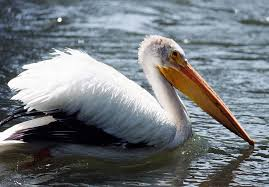pelican: (2, 35, 254, 169)
